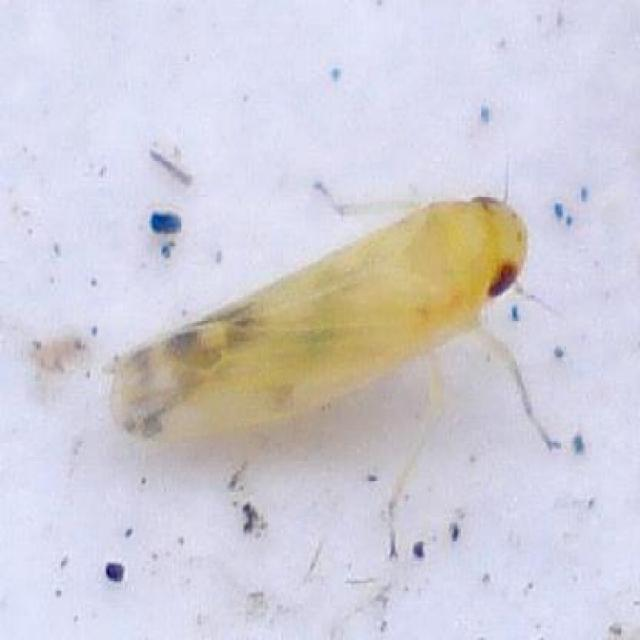green-leafhopper: (101, 177, 567, 525)
